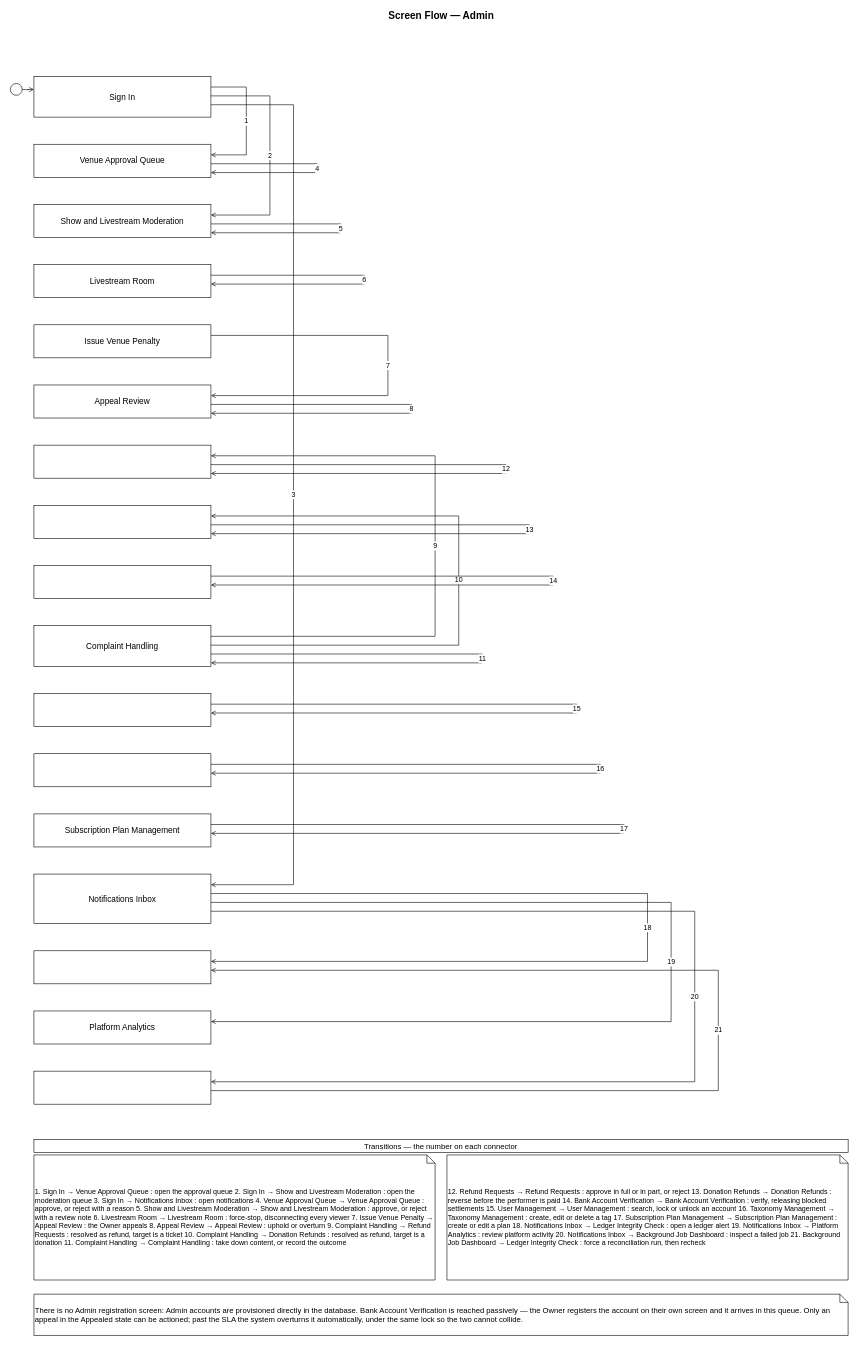
The diagram is 858 pixels wide and 1346 high, and some of its shapes have lost their labels. The box of each missing label's shape, as (x1, y1, x2, y2) in pixels:
Background Job Dashboard: (33, 1071, 211, 1104)
Bank Account Verification: (33, 565, 211, 599)
Donation Refunds: (33, 505, 211, 538)
Ledger Integrity Check: (33, 950, 211, 984)
Refund Requests: (33, 445, 211, 478)
Taxonomy Management: (33, 753, 211, 787)
User Management: (33, 693, 211, 727)
